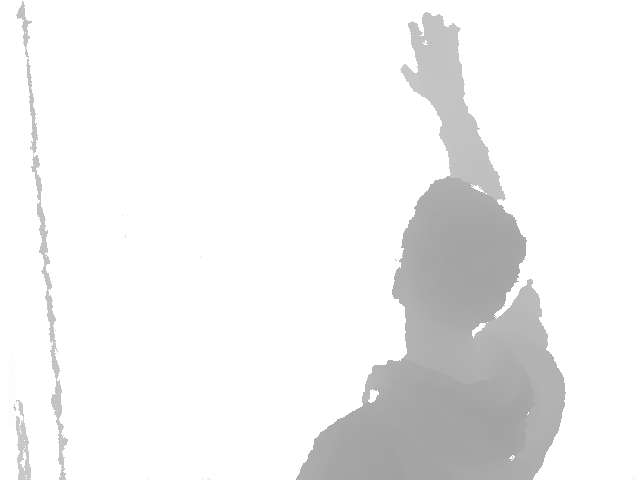hand: (400, 11, 466, 104)
head: (391, 176, 528, 358)
person: (295, 11, 568, 480)
